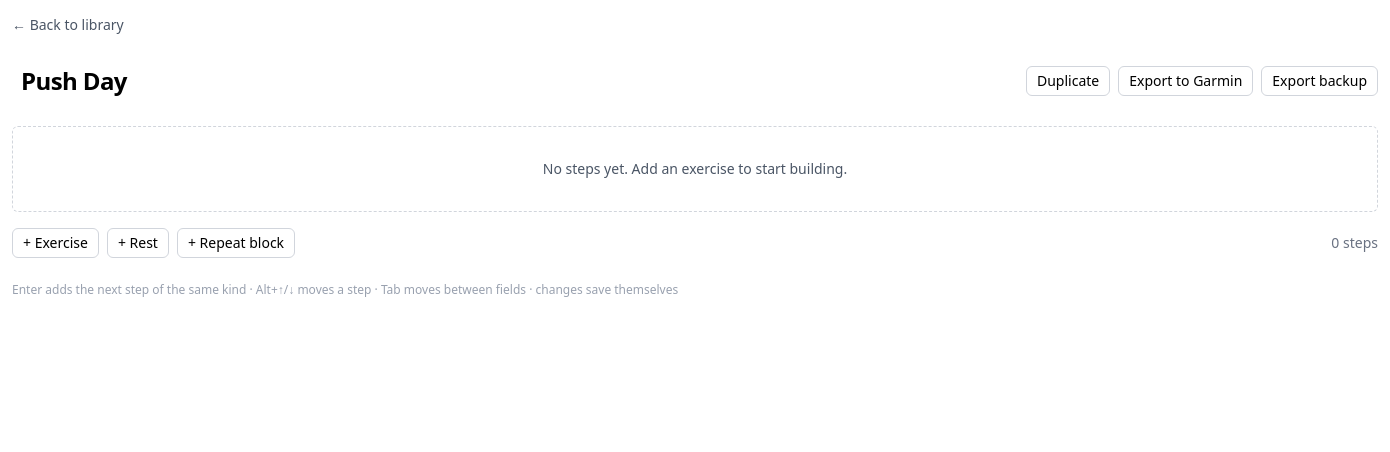
Test case: WorkoutEditor › shows no category for a step the editor added itself
What coordinates should you click on to do the following:
click the button "+ Exercise"
I would click on:
 (55, 243)
Its box is [12,228,99,258].
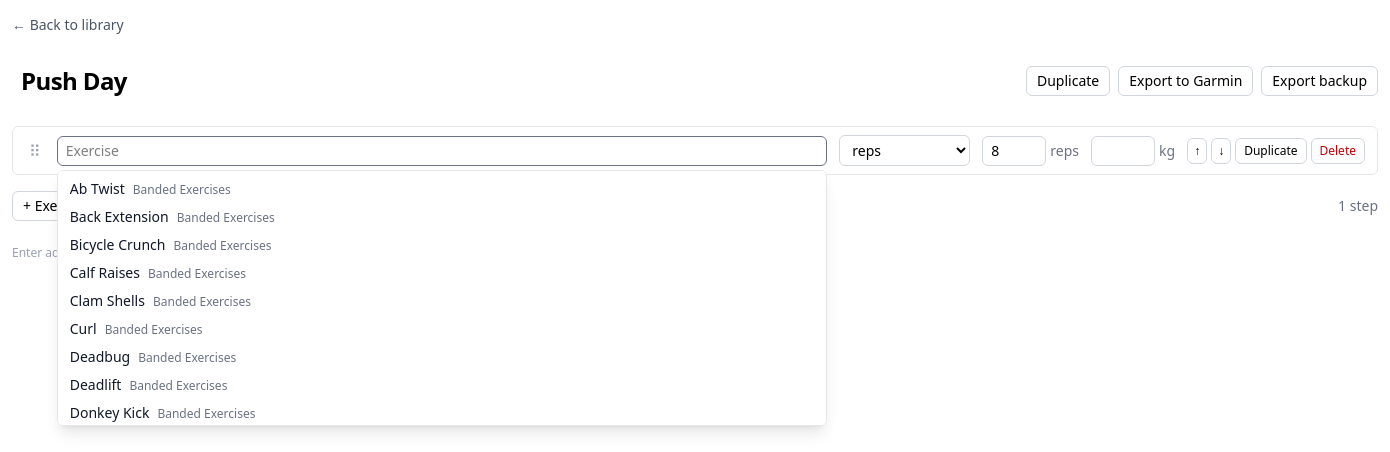
Result: the button with aria-label "Delete exercise 1" is shown at [1310,138,1365,164]
